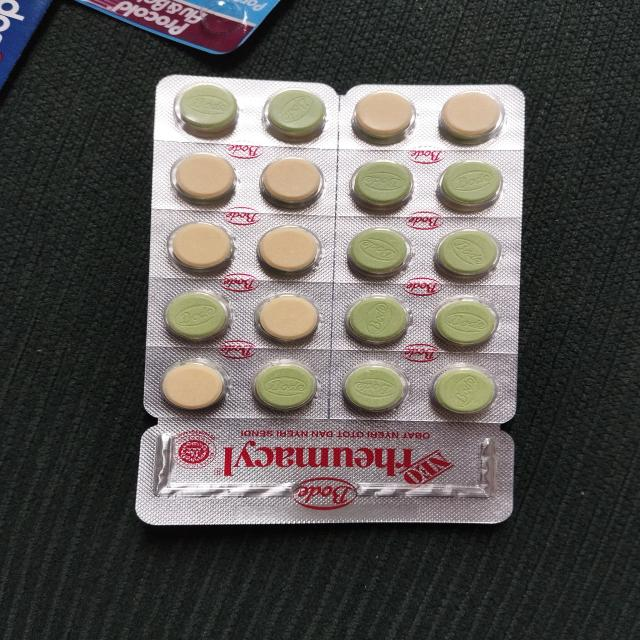B3: (136, 75, 524, 525)
